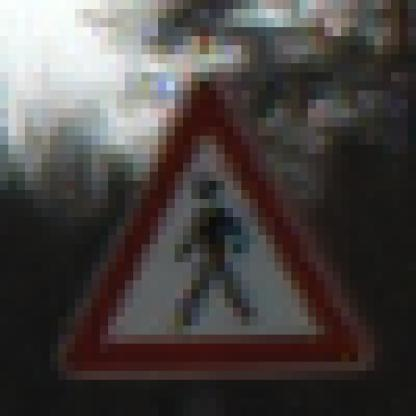crosswalk: (55, 78, 371, 382)
